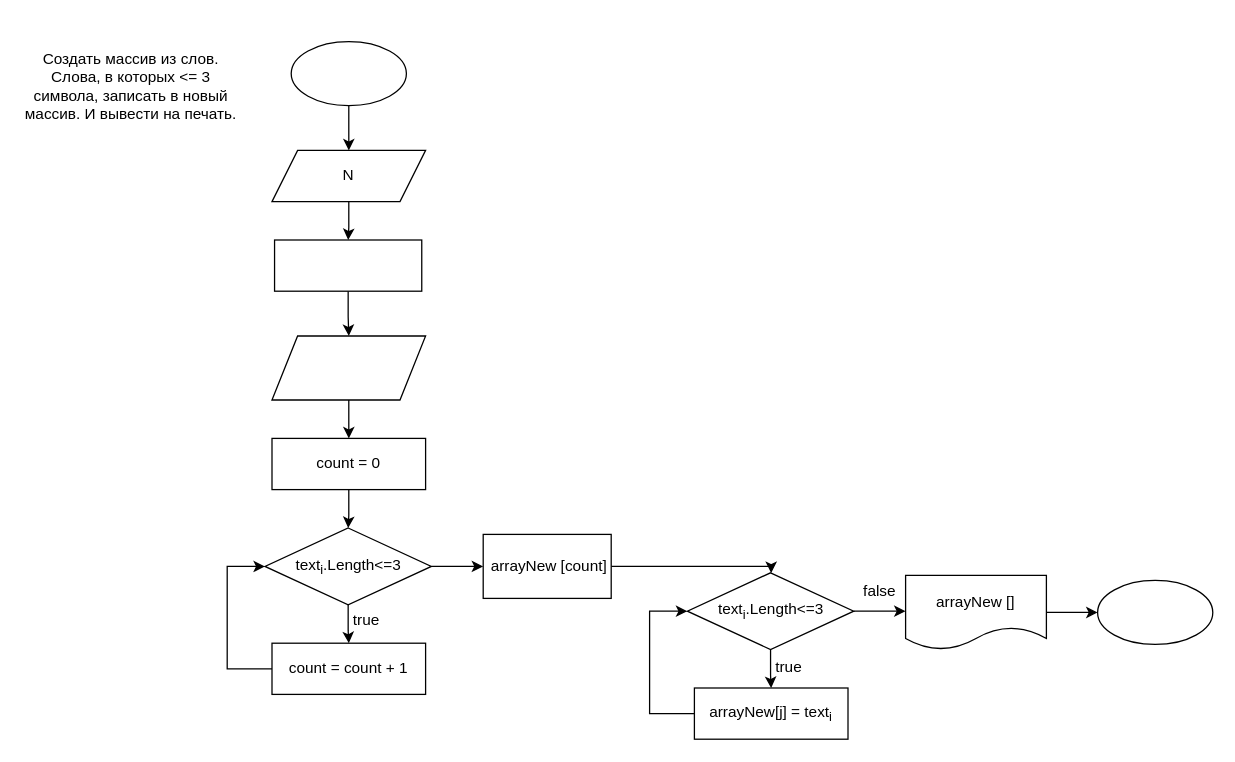
Some shapes in this 1235 by 762 pixel diagram are drawn without their labels. Here are the shapes that lost their labels. From the top down, the box of each, then its label:
(290, 40, 406, 106): Start
(273, 239, 422, 291): array [N]
(271, 335, 426, 400): text 1 , ...., text N
(1096, 579, 1213, 644): End
